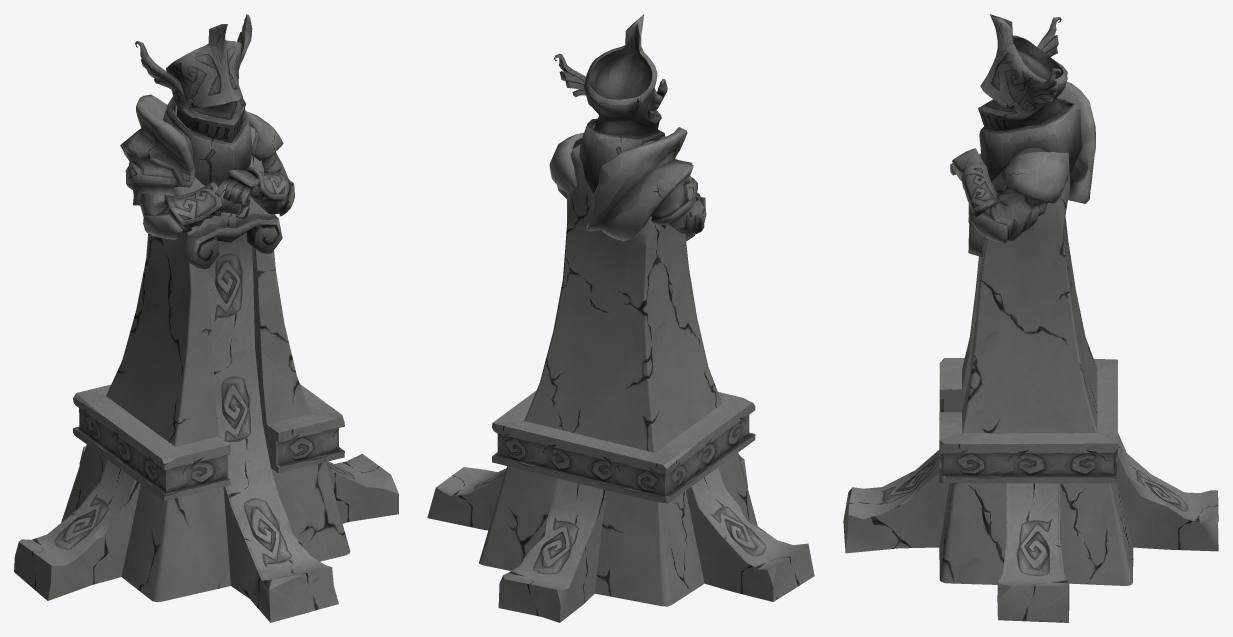
The model's file is Knight Statue2.glb.
The picture shows the model from 3 angles, left to right: view 1: azimuth 30°, elevation 25°; view 2: azimuth 150°, elevation 25°; view 3: azimuth 270°, elevation 25°; orthographic projection. The views are drawn at different scales.
Size of the model in its own units: 3.05 by 4.36 by 2.81.
2 materials, 2 textured.
